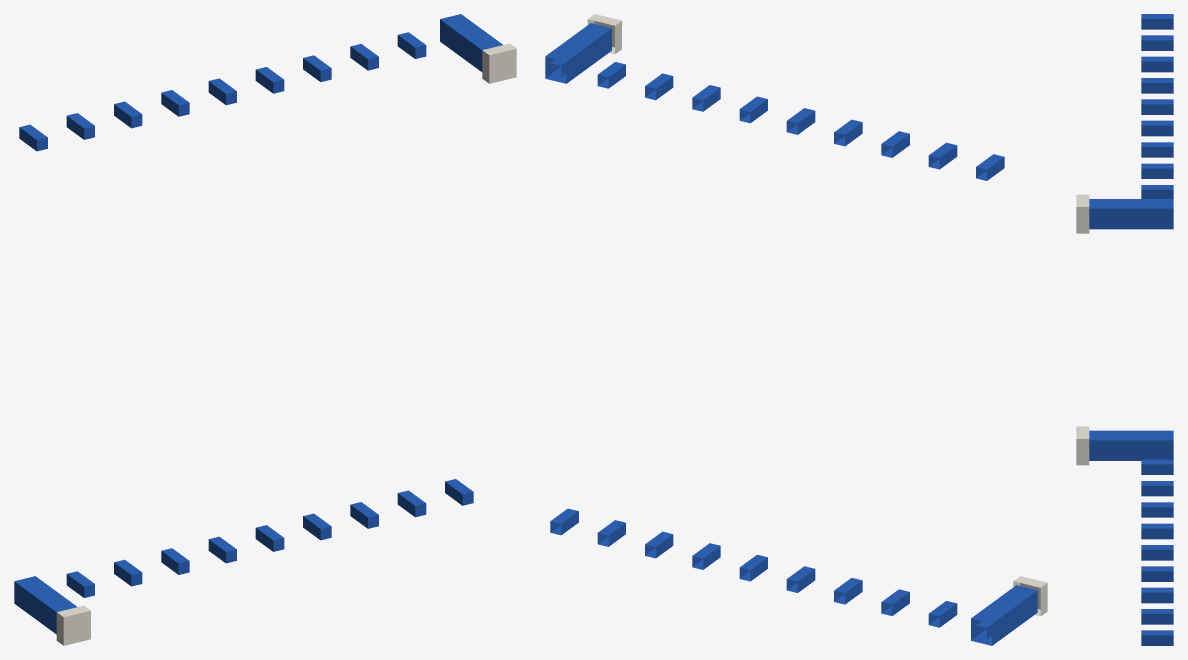
3 views of the same model, side by side, from view 1: azimuth 30°, elevation 25°; view 2: azimuth 150°, elevation 25°; view 3: azimuth 270°, elevation 25° (orthographic). The views are drawn at different scales.
Parts seen in each view (by area): view 1: waypoint_road_default; view 2: waypoint_road_default; view 3: waypoint_road_default.
Part boxes in pixels (<box>): waypoint_road_default: <box>14,14,516,645</box>; waypoint_road_default: <box>545,14,1047,645</box>; waypoint_road_default: <box>1076,14,1173,645</box>.
Size of the model in its own units: 14.9 by 15.3 by 3.
